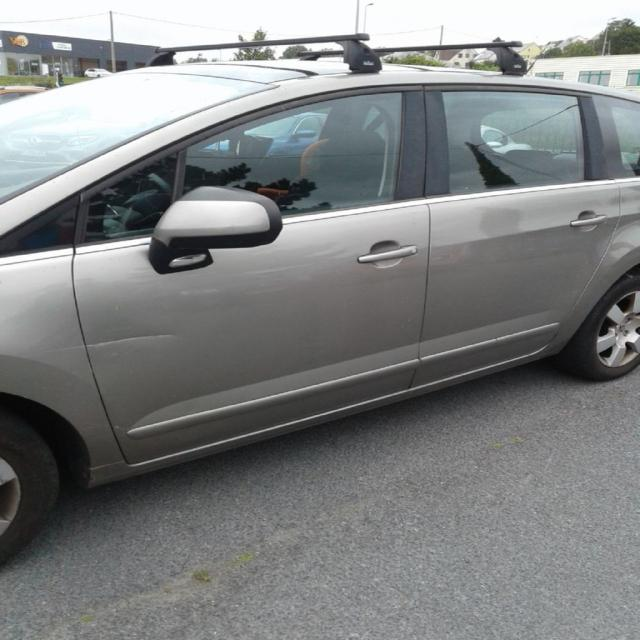porte-avant: (73, 83, 431, 470)
